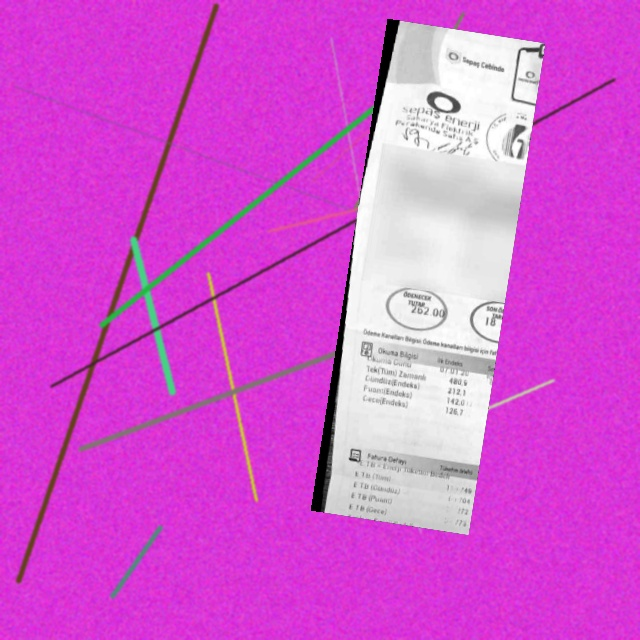electricity-bill: (311, 18, 545, 534)
